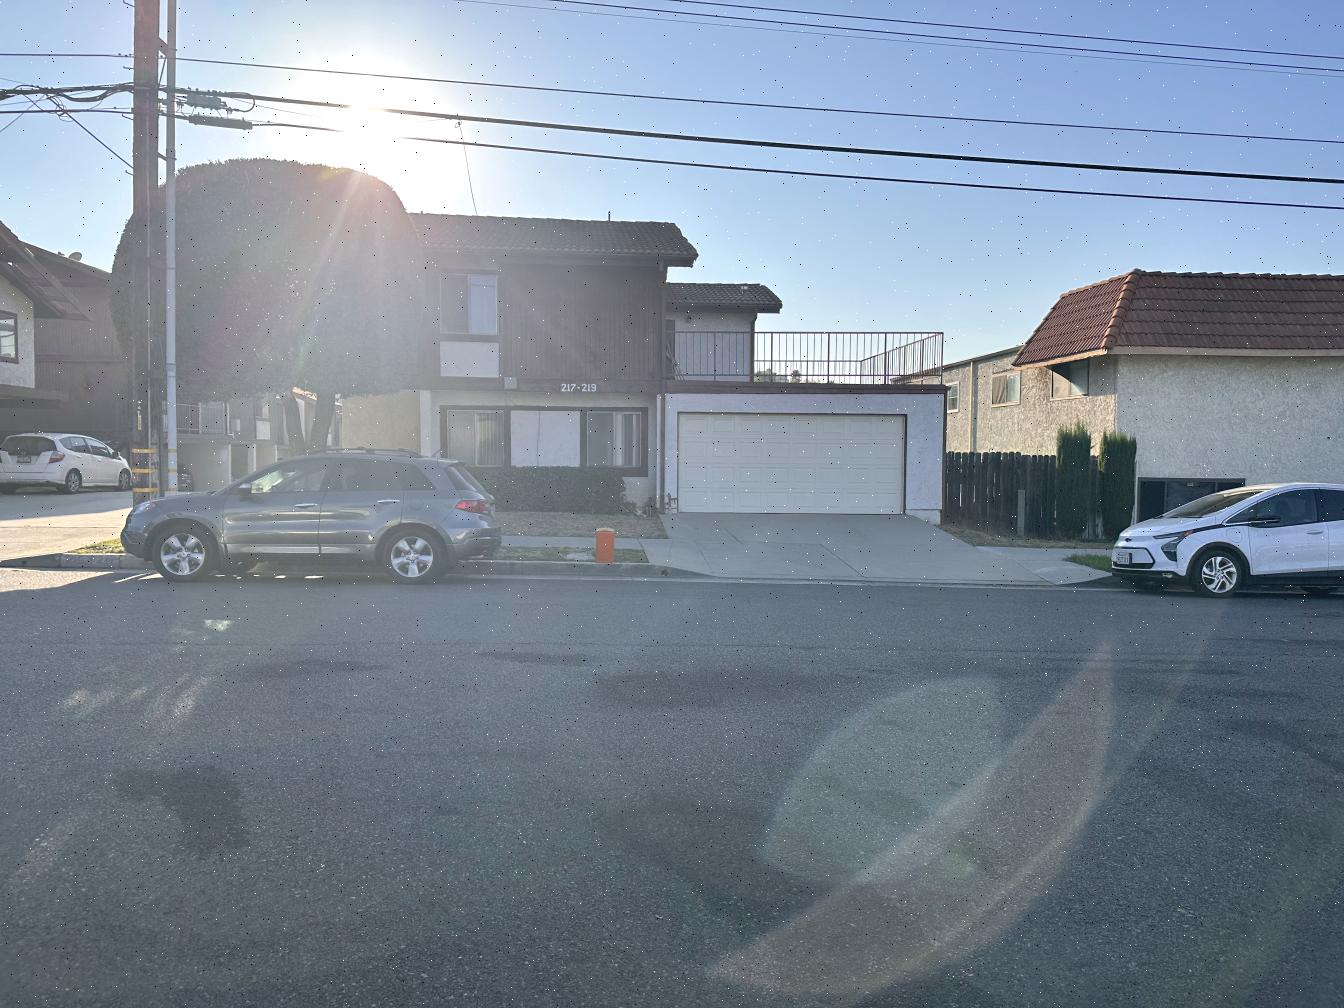curbs-laRr: (491, 555, 667, 582)
orange box: (596, 528, 617, 563)
